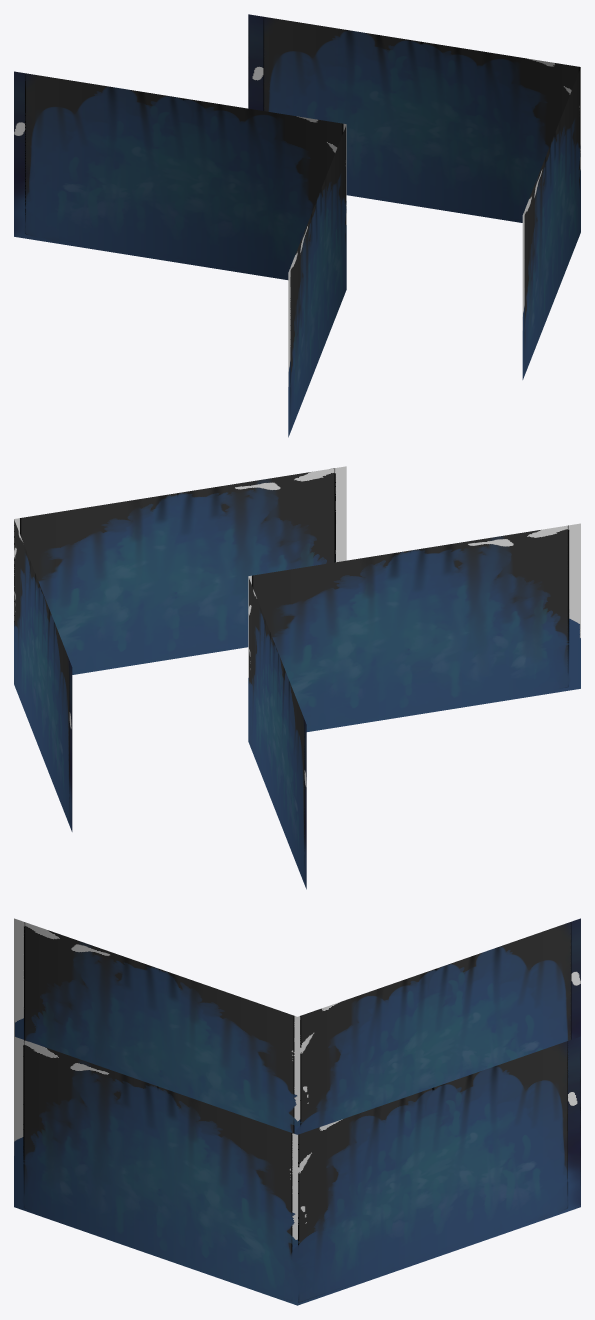
File: Conveyor FX.fbx
3 views of the same model, one above another, from view 1: azimuth 30°, elevation 25°; view 2: azimuth 150°, elevation 25°; view 3: azimuth 270°, elevation 25° (orthographic). The views are drawn at different scales.
Visible parts, largest first — view 1: Conveyor FX; view 2: Conveyor FX; view 3: Conveyor FX.
Part boxes in pixels (x1,y1,x2,y2): Conveyor FX: (14,14,580,437); Conveyor FX: (14,466,580,889); Conveyor FX: (14,918,580,1305).
Size of the model in its own units: 2.26 by 0.8306 by 2.5.
